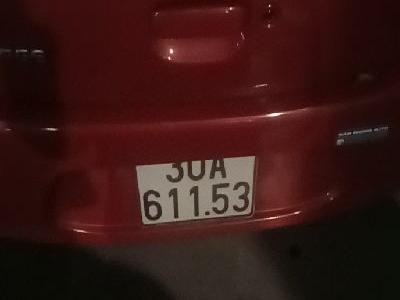number: (135, 154, 256, 225)
